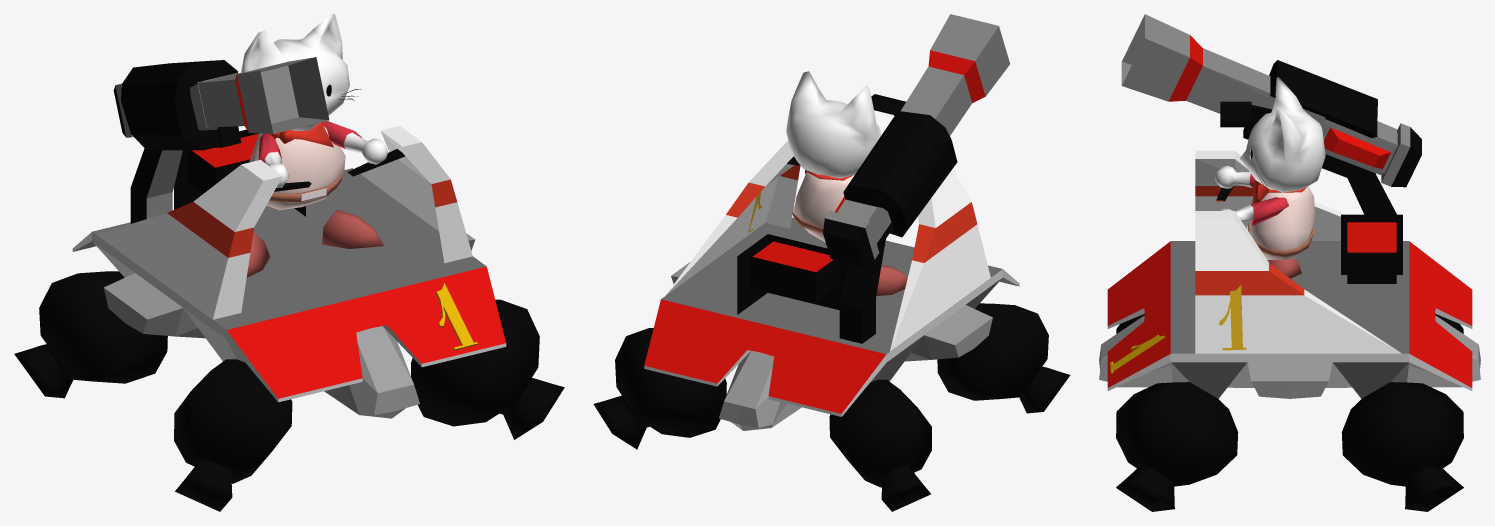
Rendered from sukiure_red.fbx.
3 renders of one model, left to right at view 1: azimuth 30°, elevation 25°; view 2: azimuth 150°, elevation 25°; view 3: azimuth 270°, elevation 25°, orthographic. The views are drawn at different scales.
Visible parts, largest first — view 1: Cube, 立方体, Cube.001, Face, Body, 立方体.002, Leg, Arm, NUm_1.001, Scarf; view 2: Cube, Cube.001, 立方体, Face, 立方体.002, Body, Leg; view 3: Cube, Cube.001, 立方体, Face, 立方体.002, Body, Arm, NUm_1, NUm_1.001.
Part boxes in pixels (x1,y1,x2,y2): Cube: (14,168,564,511); 立方体: (96,126,472,319); Cube.001: (113,57,329,223); Face: (240,14,361,130); Body: (249,126,345,210); 立方体.002: (174,129,305,216); Leg: (246,209,383,277); Arm: (258,121,387,187); NUm_1.001: (436,283,477,350); Scarf: (269,122,333,147); Cube: (593,217,1070,511); Cube.001: (823,14,1009,343); 立方体: (665,141,990,351); Face: (786,71,881,178); 立方体.002: (737,234,849,314); Body: (792,171,854,242); Leg: (876,265,907,295); Cube: (1099,241,1480,511); Cube.001: (1121,14,1421,214); 立方体: (1195,150,1401,353); Face: (1240,77,1325,192); 立方体.002: (1341,214,1402,283); Body: (1247,186,1315,259); Arm: (1215,165,1288,225); NUm_1: (1218,284,1246,350); NUm_1.001: (1110,334,1164,373).
Bounding box in the file's own units: 1962 × 2156 × 1931.
